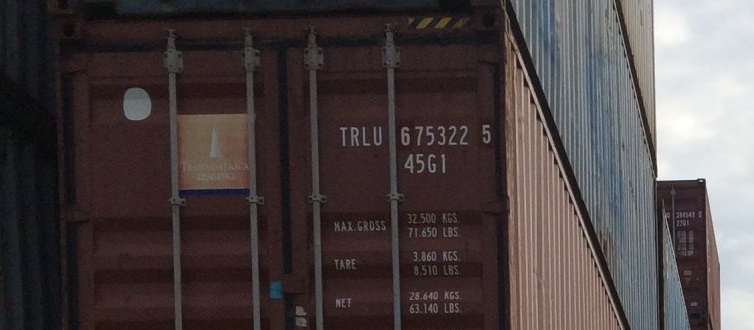container_door: (62, 10, 507, 327)
